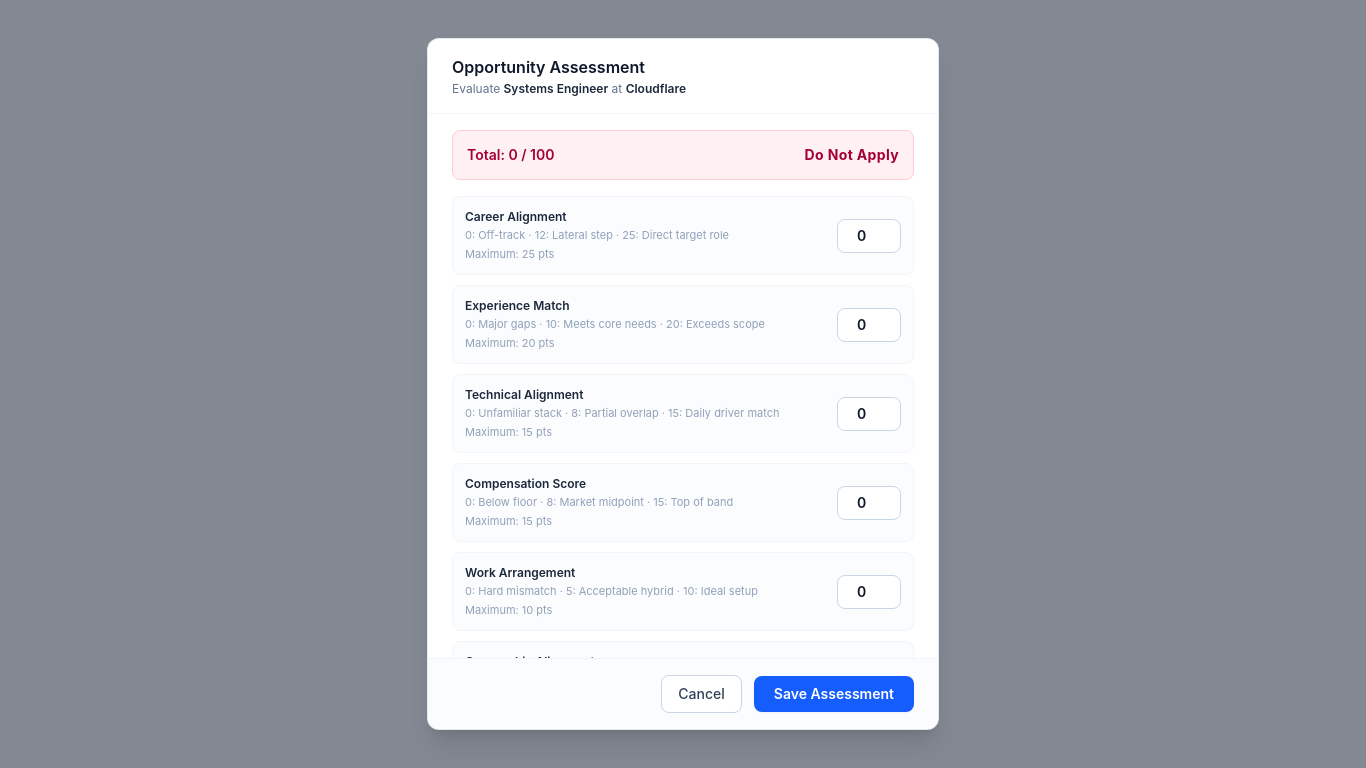
Test: AssessmentModal › updates live score total and recommendation tier as inputs change
The width and height of the screenshot is (1366, 768).
Expected: the text "Total: 0 / 100" is shown, [467,145,554,165]
Expected: the text "Do Not Apply" is shown, [805,145,899,165]
Replace the text in the number field labelled "Career Alignment" with "25" at (869, 236), box [837,219,901,253]
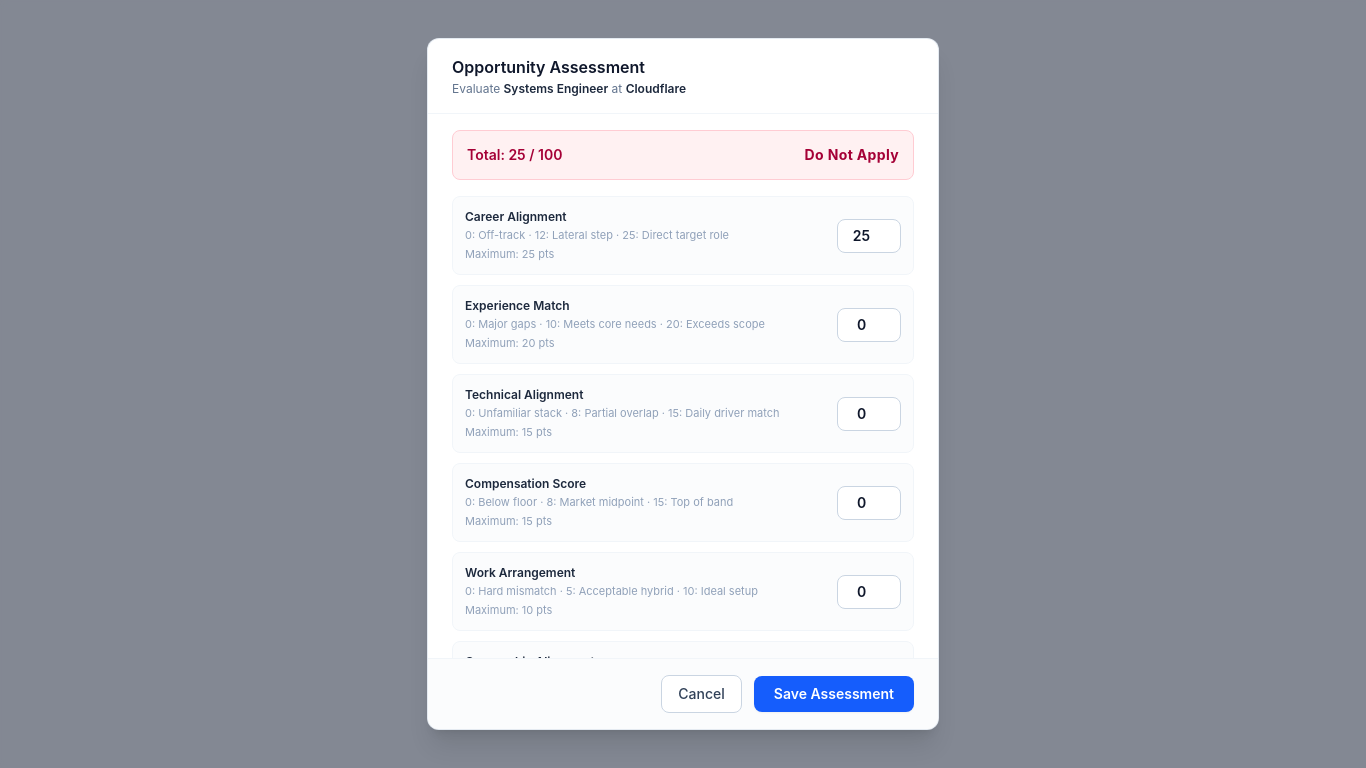
Replace the text in the number field labelled "Experience Match" with "20" at (869, 325), box [837,308,901,342]
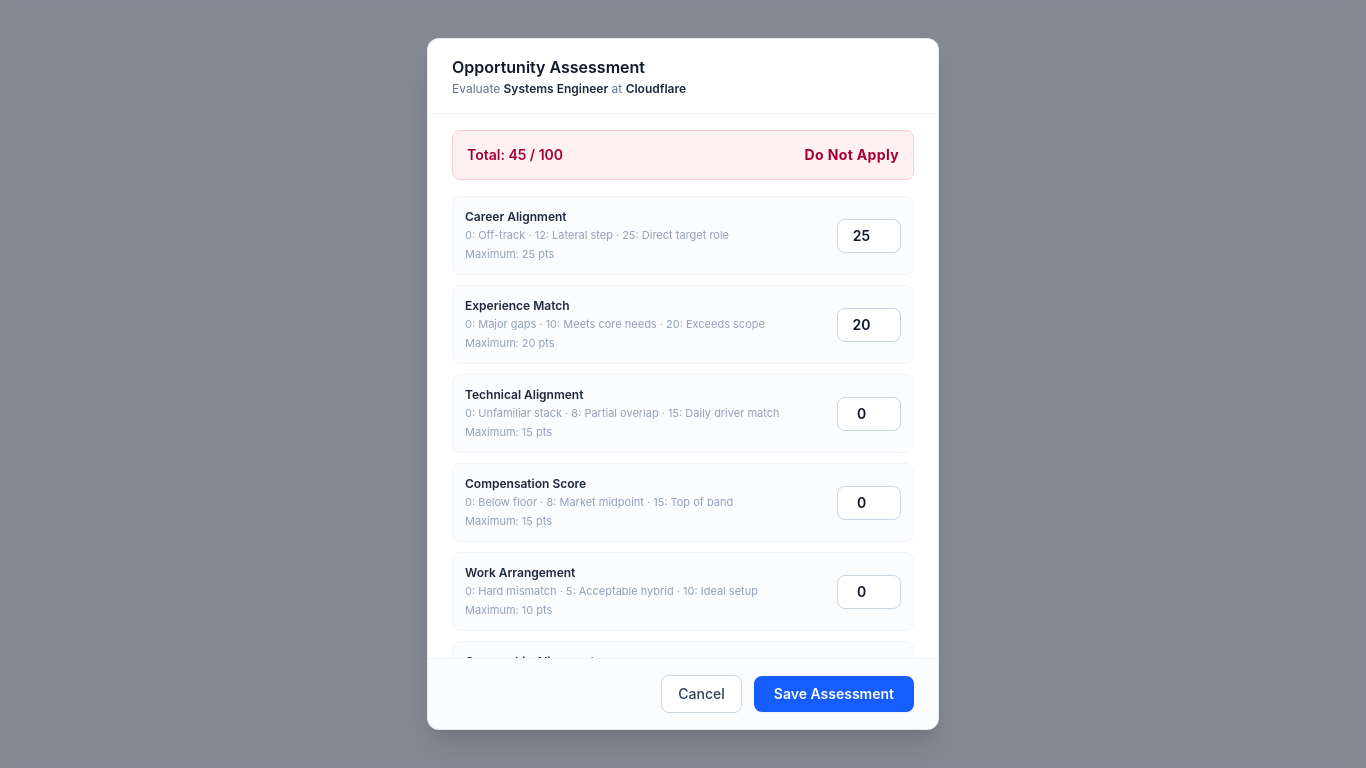
Replace the text in the number field labelled "Technical Alignment" with "15" at (869, 414), box [837,397,901,431]
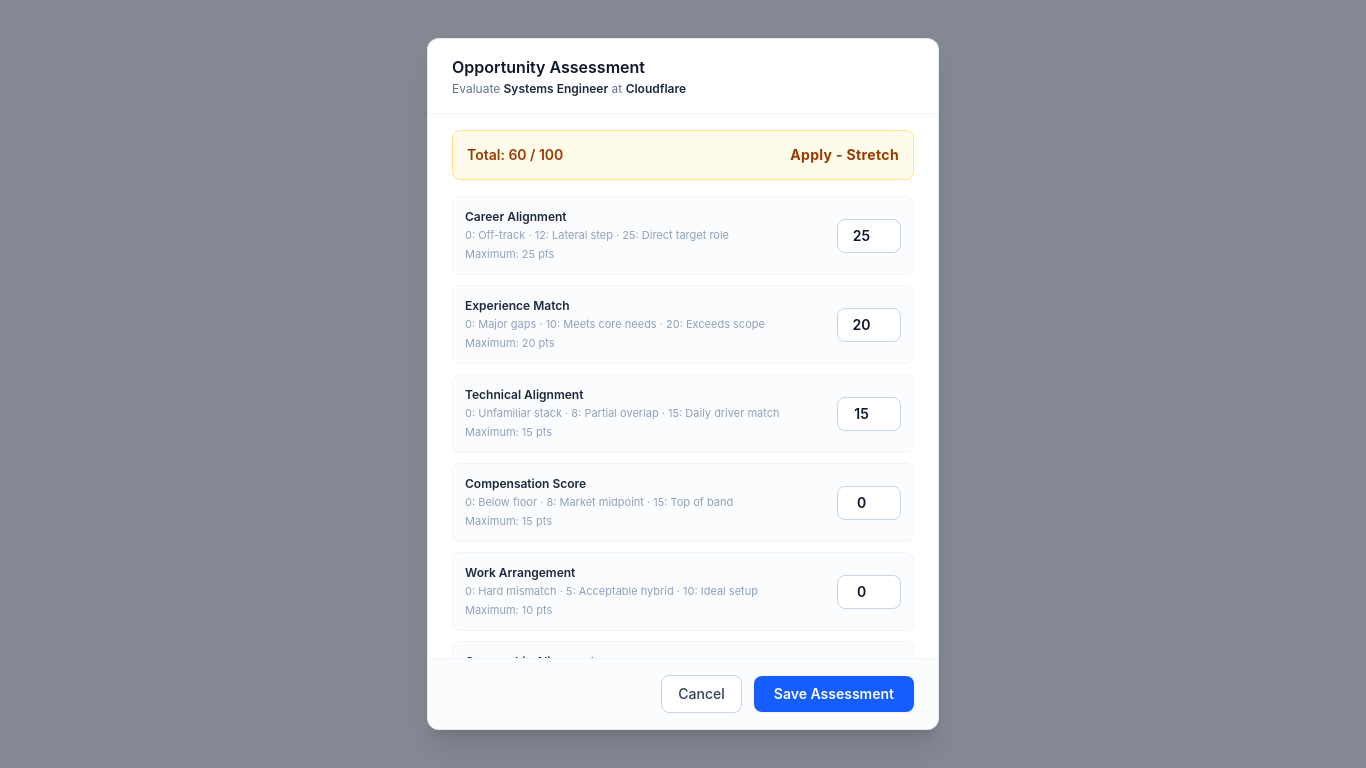
Replace the text in the number field labelled "Compensation Score" with "15" at (869, 503), box [837,486,901,520]
(page scrolled)
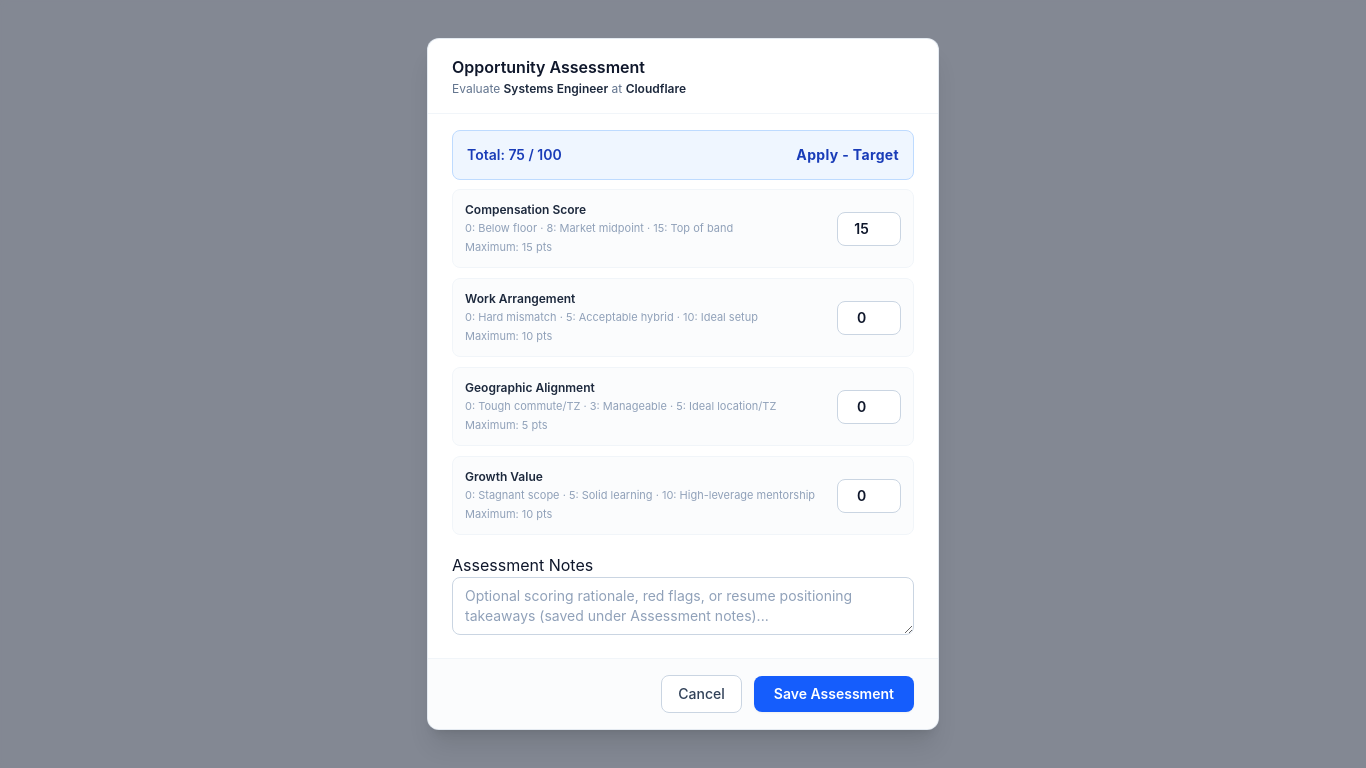
Replace the text in the number field labelled "Growth Value" with "10" at (869, 496), box [837,479,901,513]
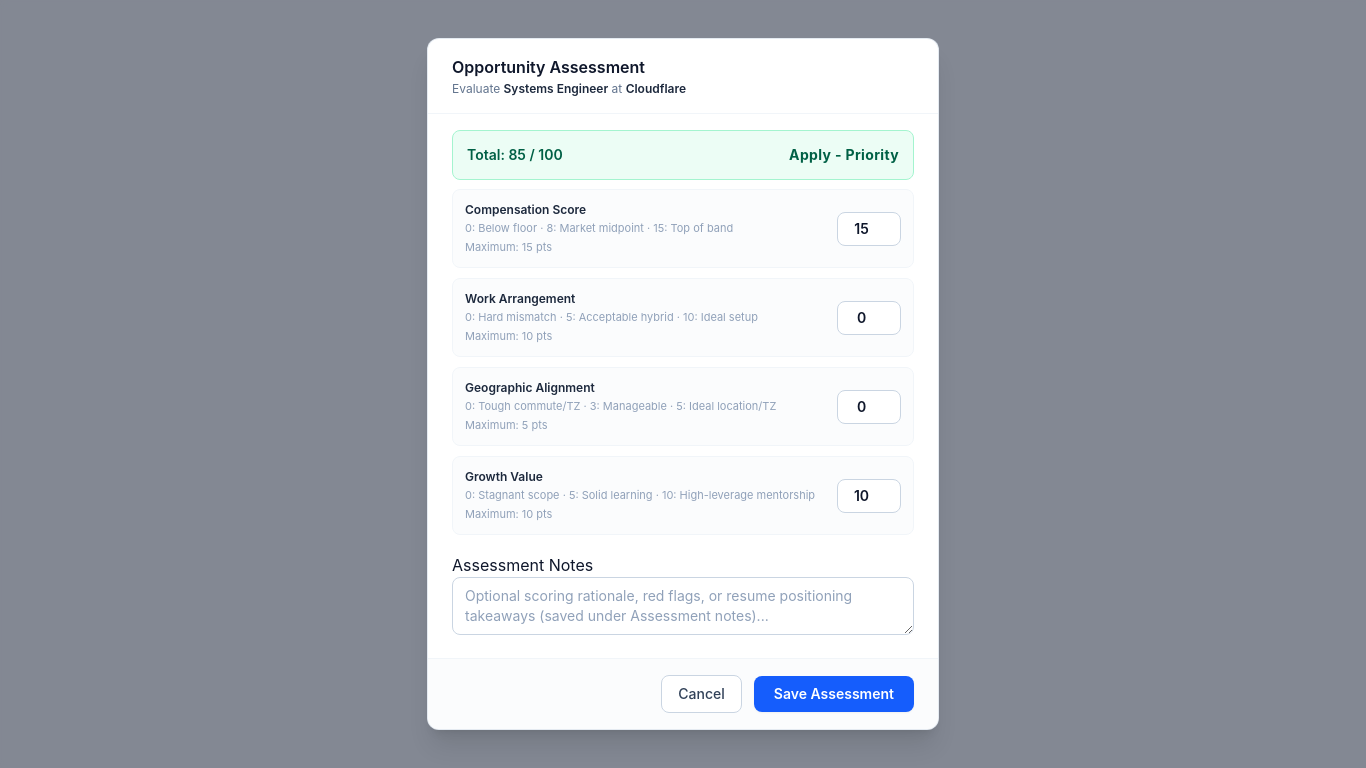
Now the text "Total: 85 / 100" is shown, box [467,145,563,165]
Now the text "Apply - Priority" is shown, box [789,145,899,165]
